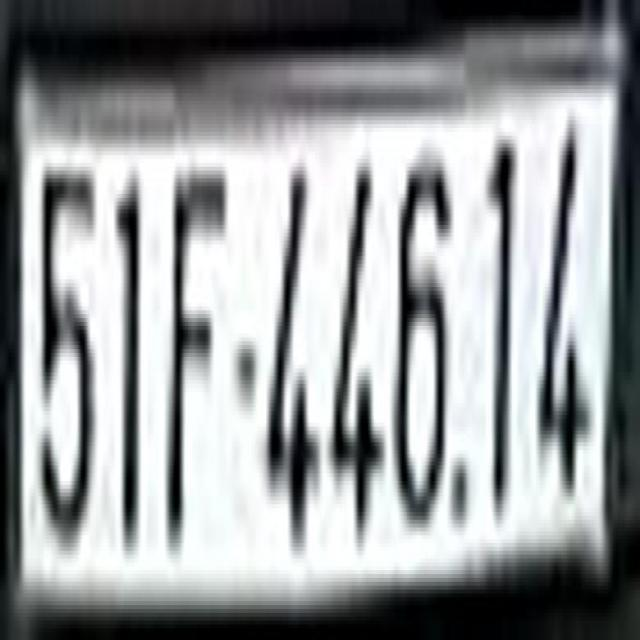1: (483, 116, 513, 543), (113, 162, 141, 562)
4: (531, 97, 595, 500), (263, 143, 321, 554), (328, 152, 388, 536)
5: (40, 159, 92, 543)
6: (392, 140, 450, 548)
F: (166, 148, 228, 540)
